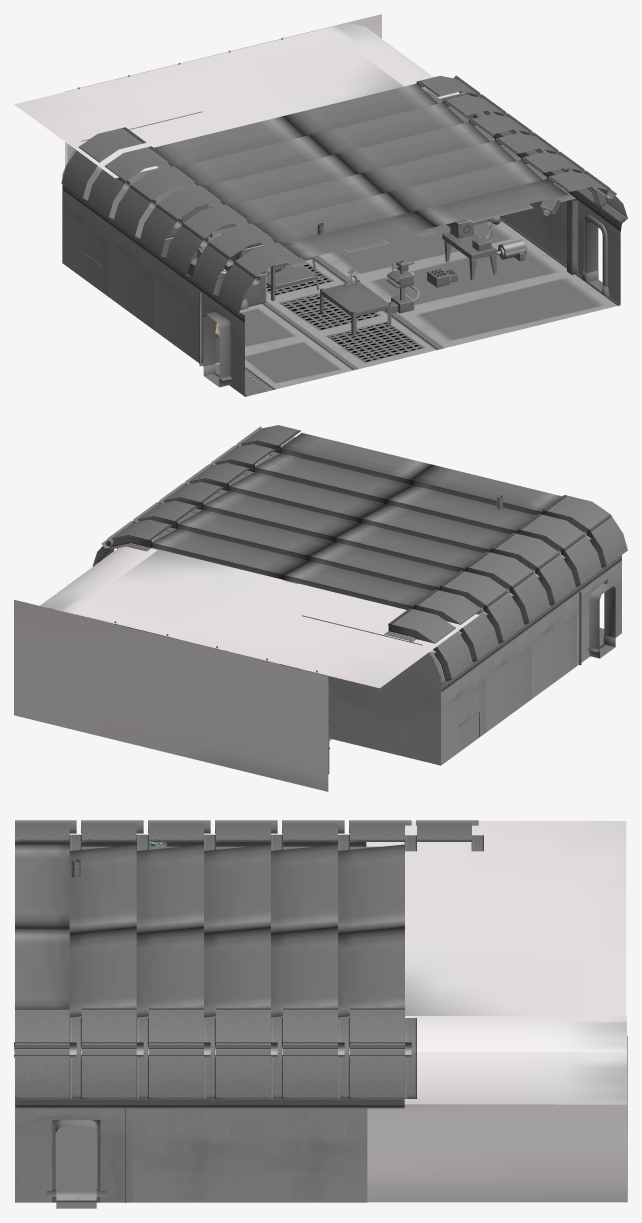
The model's file is MSH_Armory_room_L2_R2_optimized.fbx.
3 renders of one model, top to bottom at view 1: azimuth 30°, elevation 25°; view 2: azimuth 150°, elevation 25°; view 3: azimuth 270°, elevation 25°, orthographic. The views are drawn at different scales.
Visible parts, largest first — view 1: lightmap0, lightmap-1; view 2: lightmap0, lightmap-1; view 3: lightmap0, lightmap-1.
Part boxes in pixels (x1=…): lightmap0: x1=14, y1=14, x2=627, y2=396; lightmap-1: x1=203, y1=220, x2=602, y2=387; lightmap0: x1=14, y1=425, x2=627, y2=791; lightmap-1: x1=589, y1=583, x2=615, y2=658; lightmap0: x1=14, y1=820, x2=627, y2=1202; lightmap-1: x1=55, y1=1120, x2=97, y2=1208.
Size of the model in its own units: 20.61 by 6.62 by 21.58.
Materials: 2 (2 with a texture image).
